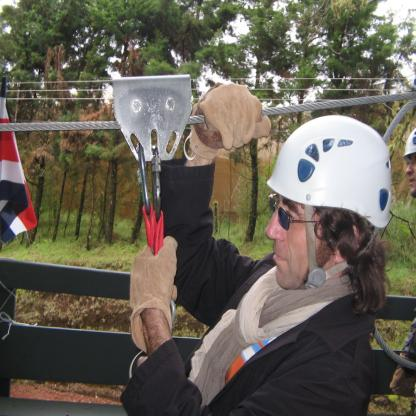Helmet: (262, 119, 398, 296)
